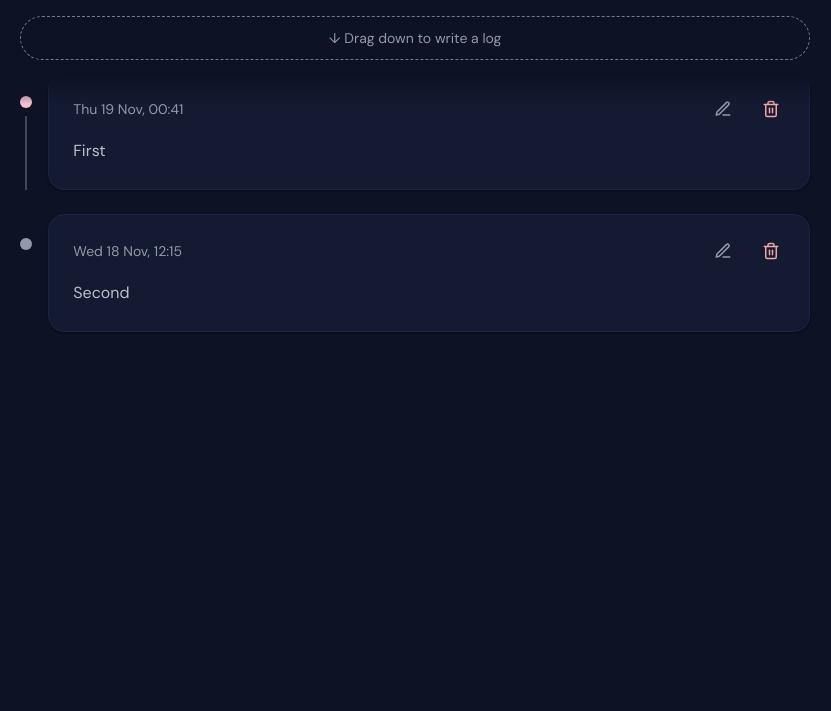
Test: keeps the typed text when the box is folded and opened again, and focuses the box
The image size is (831, 711).
Earlier steps of the test are not shown.
(page scrolled)
Click the button with class "fold-hint": x=415, y=38 [20, 16, 810, 60]
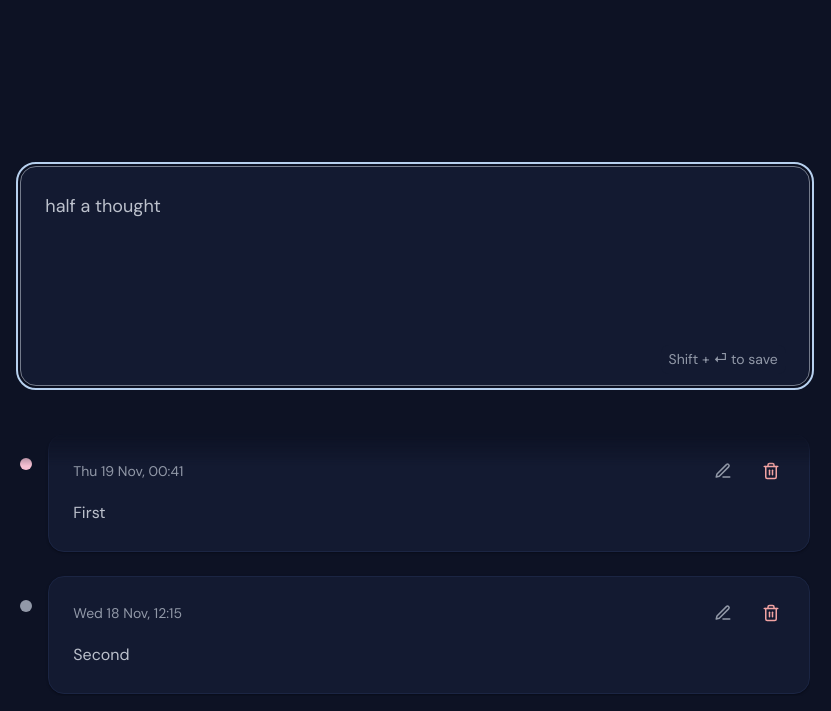
Expected: the button with class "fold-hint" is gone
Expected: the text box named "Thought" holds "half a thought", [20, 166, 810, 386]
